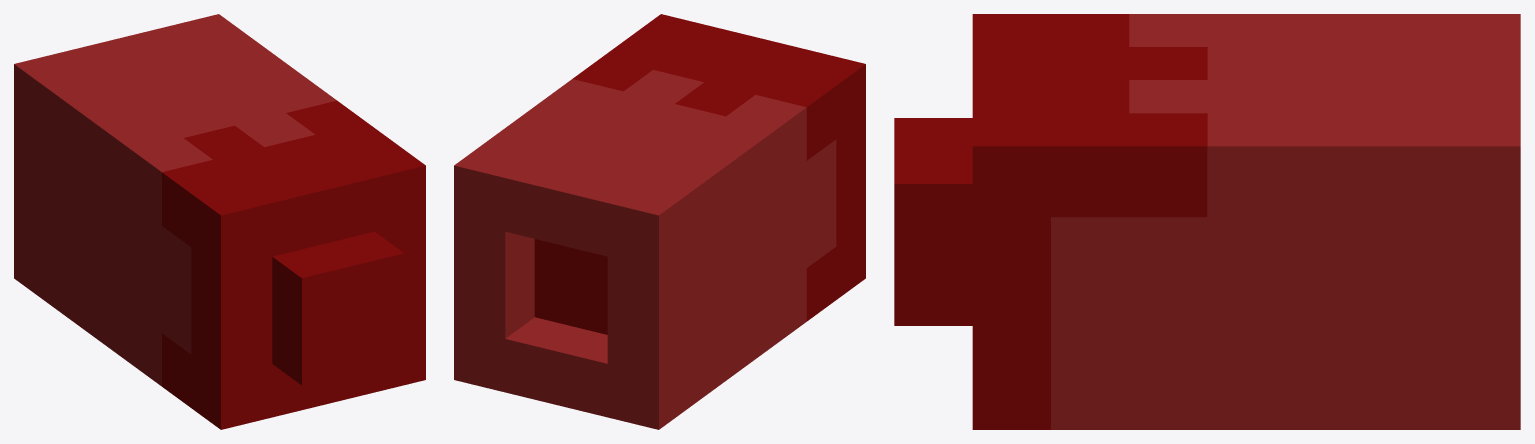
Rendered from BasicTowerCannon.obj.
3 renders of one model, left to right at view 1: azimuth 30°, elevation 25°; view 2: azimuth 150°, elevation 25°; view 3: azimuth 270°, elevation 25°, orthographic. The views are drawn at different scales.
Size of the model in its own units: 0.4 by 0.4 by 0.8.
Materials: 1 (1 with a texture image).
